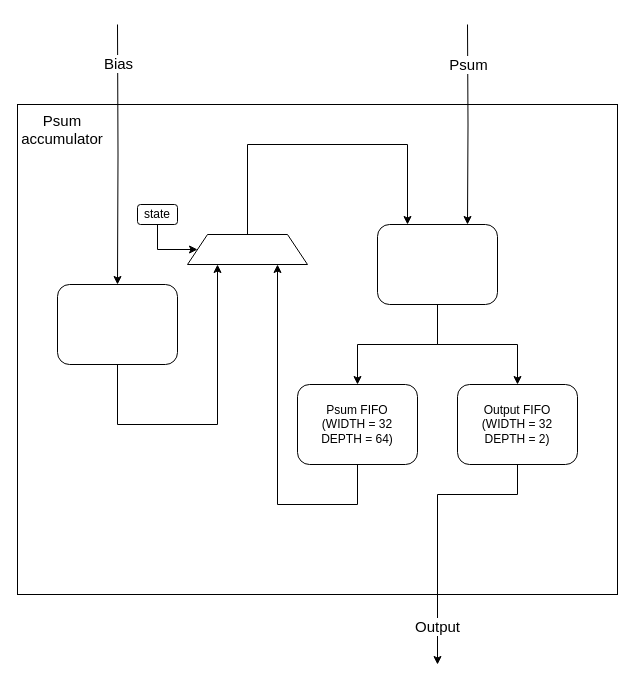
Image size: 635x690. Some labels were removed from this diagram. Here are the shapes that lost their labels. From the top down, the centre of each, then its label:
At (x=437, y=264): "FP32 adder".
At (x=117, y=324): "Bias FIFO (WIDTH = 32 DEPTH = 2)".
